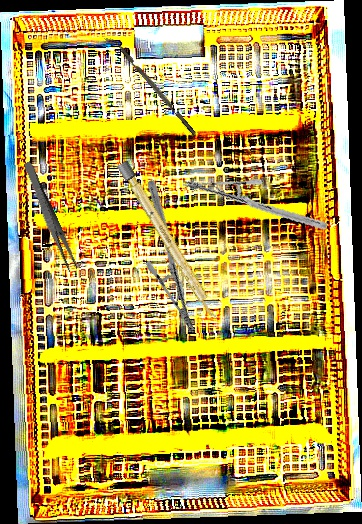Chopper: (104, 32, 196, 139)
Dressing Forceps: (19, 160, 80, 273)
Needle Holder: (93, 177, 249, 335), (182, 152, 328, 257)
Scalpel Handle: (116, 160, 221, 322)
